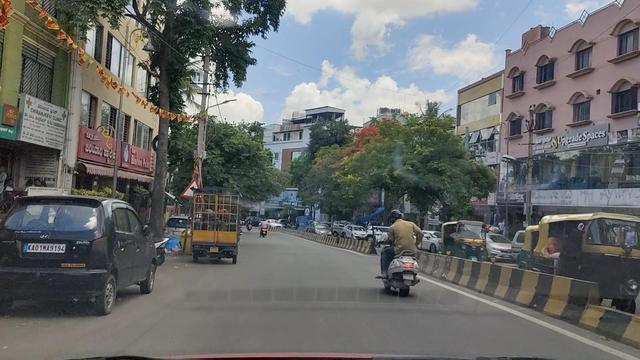LMV: (0, 198, 130, 309), (368, 211, 432, 300), (190, 190, 240, 268)
